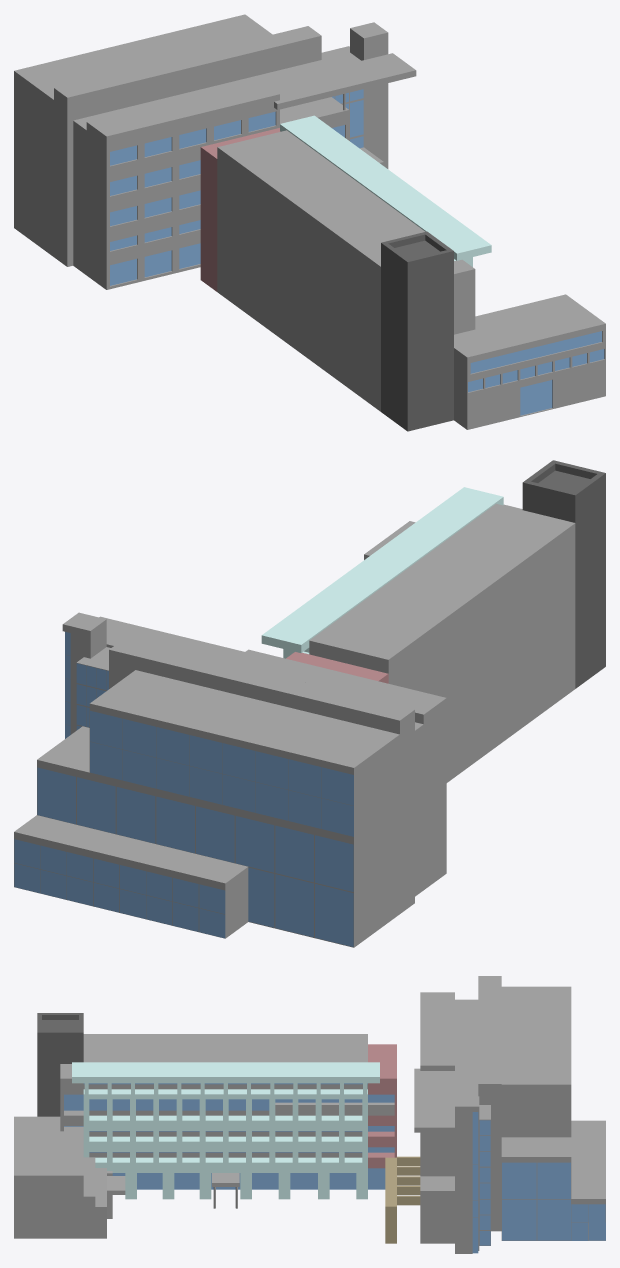
The model's file is BonBuLawTexture.fbx.
3 renders of one model, top to bottom at view 1: azimuth 30°, elevation 25°; view 2: azimuth 150°, elevation 25°; view 3: azimuth 270°, elevation 25°, orthographic. The views are drawn at different scales.
Parts seen in each view (by area): view 1: Cube.001, Cube.074, Cube, Cube.073, Cube.088, Cube.090, Cube.035, Cube.085, Cube.086, Cube.089, Cube.084, Cube.070 (+1 smaller); view 2: Cube.001, Cube.090, Cube.089, Cube.091, Cube.088, Cube.073, Cube.035, Cube.074, Cube.084, Cube.086, Cube.085, Cube.087 (+1 smaller); view 3: Cube.001, Cube.090, Cube, Cube.089, Cube.035, Cube.074, Cube.006, Cube.088, Cube.091, Cube.007, Cube.008, Cube.084 (+9 smaller).
Boxes of the visible parts, <box> form: Cube.001: <box>217,130,425,411</box>; Cube.074: <box>86,79,383,289</box>; Cube: <box>454,294,605,429</box>; Cube.073: <box>381,231,453,431</box>; Cube.088: <box>54,26,321,266</box>; Cube.090: <box>14,14,272,160</box>; Cube.035: <box>280,115,491,260</box>; Cube.085: <box>73,52,363,275</box>; Cube.086: <box>266,53,416,109</box>; Cube.089: <box>14,131,53,256</box>; Cube.084: <box>350,22,388,168</box>; Cube.070: <box>200,128,280,291</box>; Cube.001: <box>309,503,575,782</box>; Cube.090: <box>89,670,399,836</box>; Cube.089: <box>37,726,399,947</box>; Cube.091: <box>14,815,248,938</box>; Cube.088: <box>109,638,414,913</box>; Cube.073: <box>522,460,605,688</box>; Cube.035: <box>261,487,503,652</box>; Cube.074: <box>229,649,446,889</box>; Cube.084: <box>62,612,106,738</box>; Cube.086: <box>99,616,244,663</box>; Cube.085: <box>91,647,423,896</box>; Cube.087: <box>76,657,108,730</box>; Cube.001: <box>83,1034,367,1189</box>; Cube.090: <box>501,986,571,1137</box>; Cube: <box>14,1116,106,1238</box>; Cube.089: <box>501,1137,571,1240</box>; Cube.035: <box>72,1062,379,1083</box>; Cube.074: <box>420,992,454,1243</box>; Cube.006: <box>95,1157,396,1217</box>; Cube.088: <box>478,976,501,1231</box>; Cube.091: <box>571,1120,605,1240</box>; Cube.007: <box>83,1115,367,1130</box>; Cube.008: <box>83,1136,367,1151</box>; Cube.084: <box>455,1096,479,1253</box>.
Bounding box in the file's own units: 27000 × 14000 × 51000.
